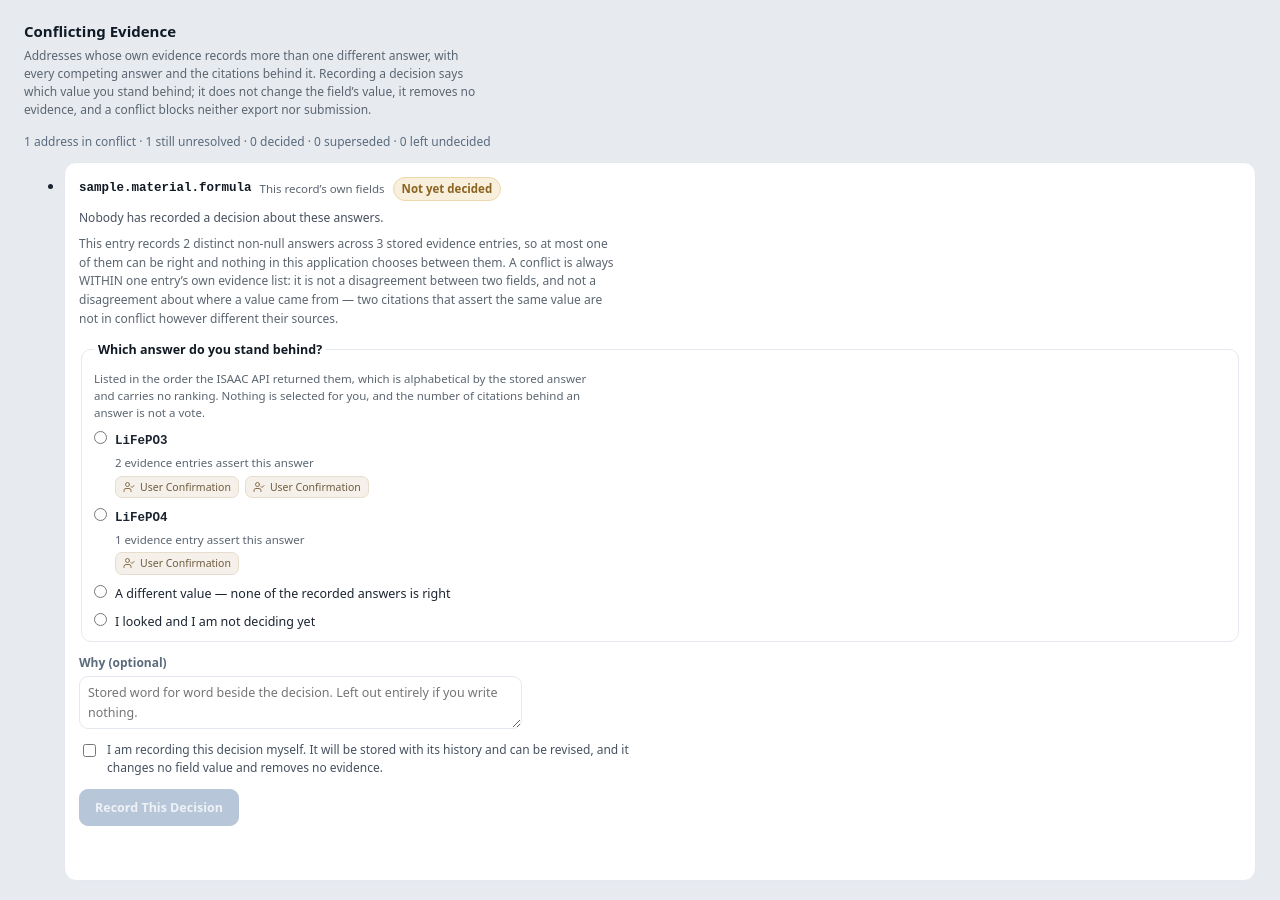
entering a value none of the recorded answers holds › says the typed value does not become the field’s value
This screenshot has width=1280, height=900.
Click the radio button labelled "A different value — none of the recorded answers is right". click: (100, 591)
box: [94,585,107,598]
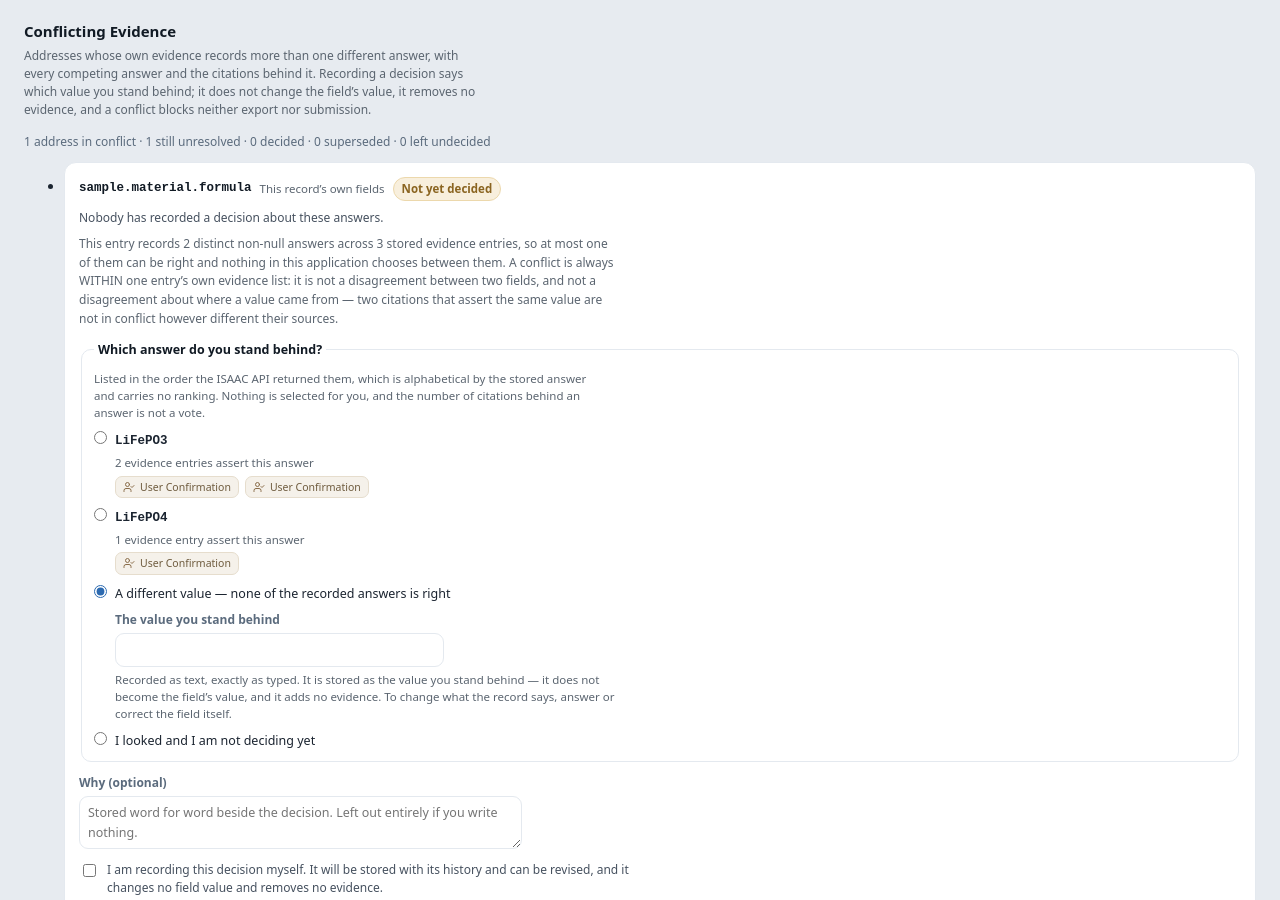
Expected: the text "it does not become the field’s value, and it adds no evidence" is shown, [115,672,614,721]
